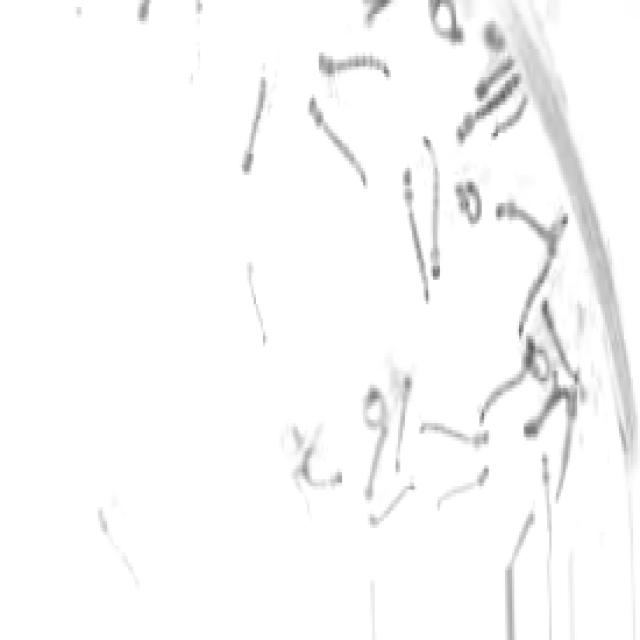larvas: (509, 210, 577, 337), (448, 71, 524, 149), (540, 296, 592, 408), (400, 175, 427, 295), (94, 510, 136, 579), (425, 136, 445, 274), (240, 68, 264, 174), (367, 487, 417, 533), (478, 366, 520, 420), (438, 466, 488, 511), (488, 97, 534, 145), (473, 53, 517, 103), (305, 434, 342, 490), (318, 51, 389, 79), (492, 206, 552, 239), (245, 267, 266, 350), (559, 390, 577, 484), (420, 424, 490, 448), (396, 373, 414, 465), (526, 392, 558, 438), (430, 0, 464, 40), (506, 517, 535, 563), (457, 176, 481, 227), (539, 458, 553, 539), (362, 388, 386, 426), (288, 467, 310, 508), (366, 0, 391, 30), (484, 23, 504, 56), (526, 352, 546, 384), (283, 427, 302, 455)
